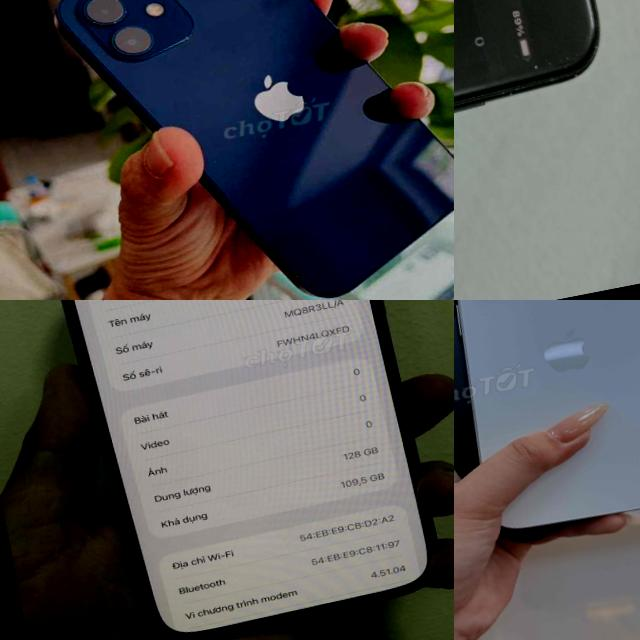scratch: (528, 48, 590, 80)
